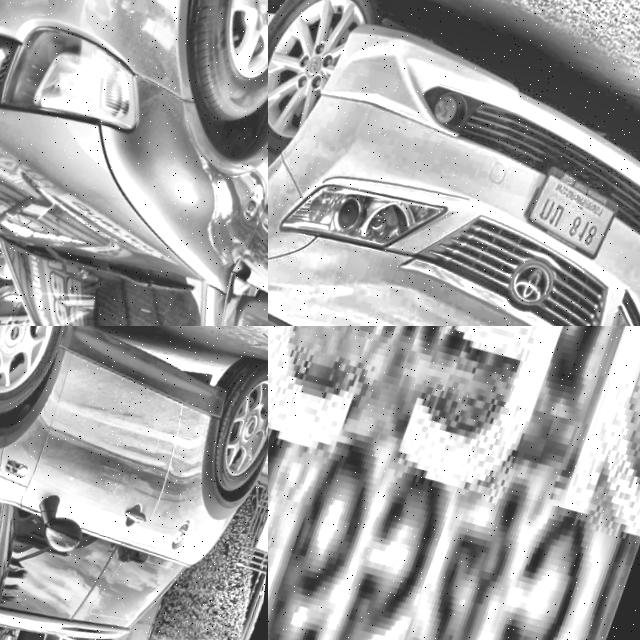license-plate: (268, 326, 640, 640), (516, 154, 638, 261)
